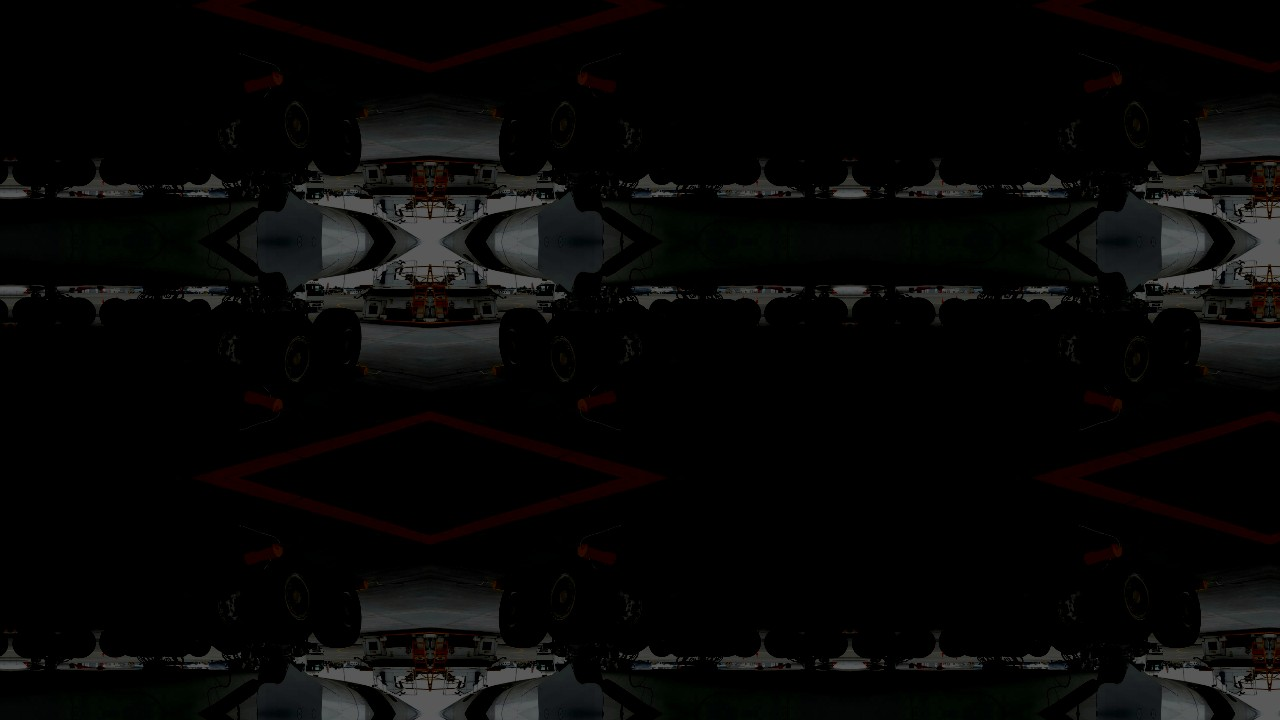chock: (243, 389, 285, 412), (575, 389, 617, 412), (1083, 389, 1125, 412), (243, 544, 285, 567), (575, 544, 617, 567), (1083, 544, 1125, 567), (243, 72, 285, 94), (575, 72, 617, 94), (1083, 72, 1125, 94), (335, 107, 369, 120), (491, 107, 525, 120), (1175, 107, 1209, 120), (335, 364, 369, 376), (491, 364, 525, 376), (1175, 364, 1209, 376), (335, 580, 369, 592), (491, 580, 525, 592), (1175, 580, 1209, 592), (96, 152, 110, 158), (750, 152, 764, 158), (936, 152, 950, 158), (96, 625, 110, 631), (750, 625, 764, 631), (936, 625, 950, 631), (96, 326, 110, 331), (750, 326, 764, 331), (936, 326, 950, 331), (12, 323, 23, 329), (837, 323, 848, 329), (852, 323, 863, 329), (12, 627, 23, 633), (837, 627, 848, 633), (852, 627, 863, 633), (12, 155, 23, 160), (837, 155, 848, 160), (852, 155, 863, 160), (0, 323, 8, 329), (0, 627, 8, 633), (0, 155, 8, 160)
wheel: (245, 85, 319, 174), (541, 85, 615, 174), (1085, 85, 1159, 174), (245, 310, 319, 399), (541, 310, 615, 399), (1085, 310, 1159, 399), (245, 557, 319, 646), (541, 557, 615, 646), (1085, 557, 1159, 646), (189, 101, 251, 178), (609, 101, 671, 178), (1029, 101, 1091, 178), (189, 305, 251, 382), (609, 305, 671, 382), (1029, 305, 1091, 382), (189, 574, 251, 651), (609, 574, 671, 651), (1029, 574, 1091, 651), (310, 104, 362, 176), (498, 104, 550, 176), (1150, 104, 1202, 176), (310, 307, 362, 379), (498, 307, 550, 379), (1150, 307, 1202, 379), (310, 577, 362, 649), (498, 577, 550, 649), (1150, 577, 1202, 649), (174, 142, 212, 185), (648, 142, 686, 185), (1014, 142, 1052, 185), (174, 299, 212, 342), (648, 299, 686, 342), (1014, 299, 1052, 342), (174, 614, 212, 657), (648, 614, 686, 657), (1014, 614, 1052, 657), (19, 154, 58, 186), (802, 154, 841, 186), (859, 154, 898, 186), (19, 297, 58, 329), (802, 297, 841, 329), (859, 297, 898, 329), (19, 627, 58, 658), (802, 627, 841, 658), (859, 627, 898, 658), (117, 151, 152, 185), (708, 151, 743, 185), (957, 151, 992, 185), (117, 299, 152, 333), (708, 299, 743, 333), (957, 299, 992, 333), (117, 623, 152, 657), (708, 623, 743, 657), (957, 623, 992, 657), (61, 157, 96, 187), (764, 157, 799, 187), (901, 157, 936, 187), (61, 297, 96, 326), (764, 297, 799, 326), (901, 297, 936, 326), (61, 630, 96, 659), (764, 630, 799, 659), (901, 630, 936, 659), (154, 298, 182, 330), (678, 298, 706, 330), (994, 298, 1022, 330), (154, 154, 182, 185), (678, 154, 706, 185), (994, 154, 1022, 185), (154, 627, 182, 658), (678, 627, 706, 658), (994, 627, 1022, 658), (98, 154, 125, 186), (735, 154, 762, 186), (938, 154, 965, 186), (98, 298, 125, 330), (735, 298, 762, 330), (938, 298, 965, 330), (98, 627, 125, 658), (735, 627, 762, 658), (938, 627, 965, 658), (12, 158, 34, 187), (826, 158, 848, 187), (852, 158, 874, 187), (12, 297, 34, 326), (826, 297, 848, 326), (852, 297, 874, 326), (12, 631, 34, 659), (826, 631, 848, 659), (852, 631, 874, 659), (144, 298, 162, 327), (698, 298, 716, 327), (984, 298, 1002, 327), (144, 629, 162, 658), (698, 629, 716, 658), (984, 629, 1002, 658), (144, 157, 162, 185), (698, 157, 716, 185), (984, 157, 1002, 185), (214, 168, 245, 182), (615, 168, 646, 182), (1054, 168, 1085, 182), (214, 302, 245, 316), (615, 302, 646, 316), (1054, 302, 1085, 316), (214, 640, 245, 654), (615, 640, 646, 654), (1054, 640, 1085, 654), (388, 158, 408, 174), (452, 158, 472, 174), (1228, 158, 1248, 174), (388, 309, 408, 325), (452, 309, 472, 325), (1228, 309, 1248, 325), (388, 631, 408, 647), (452, 631, 472, 647), (1228, 631, 1248, 647), (188, 174, 211, 185), (649, 174, 672, 185), (1028, 174, 1051, 185), (188, 298, 211, 309), (649, 298, 672, 309), (1028, 298, 1051, 309), (188, 647, 211, 658), (649, 647, 672, 658), (1028, 647, 1051, 658), (0, 158, 8, 187), (0, 297, 8, 326), (0, 631, 8, 659)
